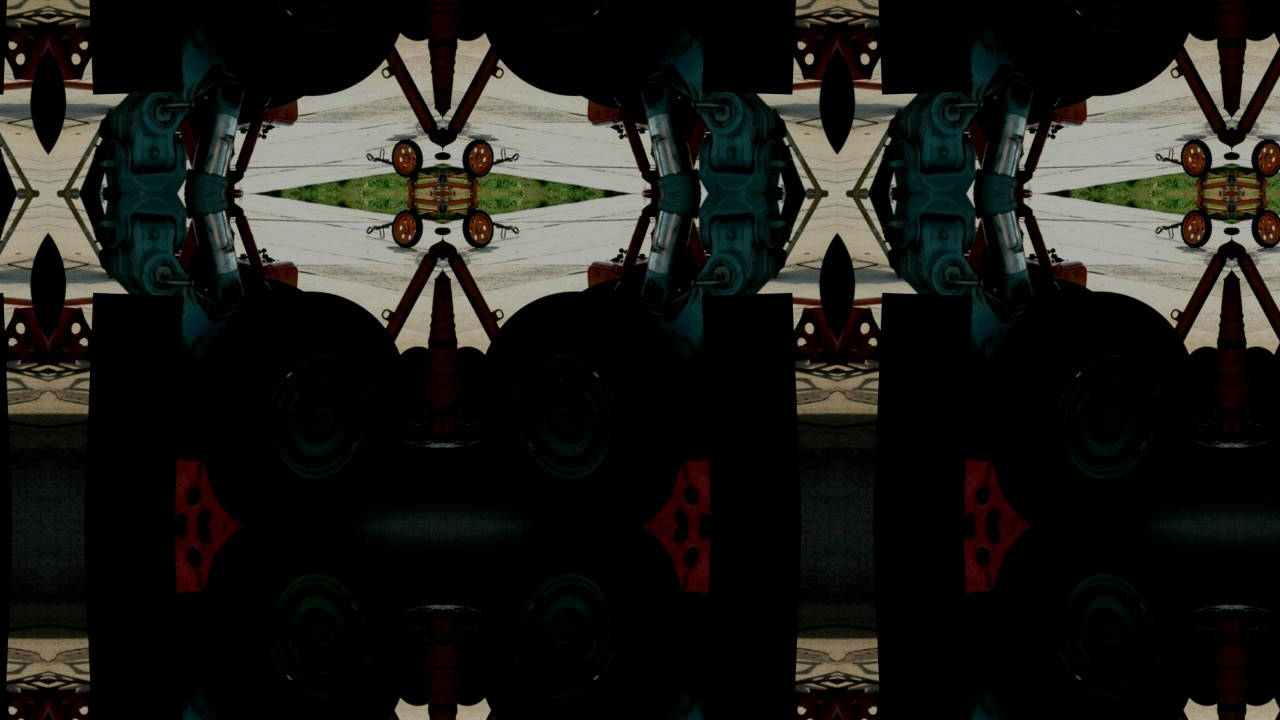chock: (79, 444, 258, 526), (627, 444, 806, 526), (869, 444, 1048, 526), (79, 527, 258, 609), (627, 527, 806, 609), (869, 527, 1048, 609)
wheel: (184, 286, 415, 526), (470, 286, 701, 526), (974, 286, 1205, 526), (184, 526, 415, 720), (470, 526, 701, 720), (974, 526, 1205, 720), (184, 0, 415, 101), (470, 0, 701, 101), (974, 0, 1205, 101)
